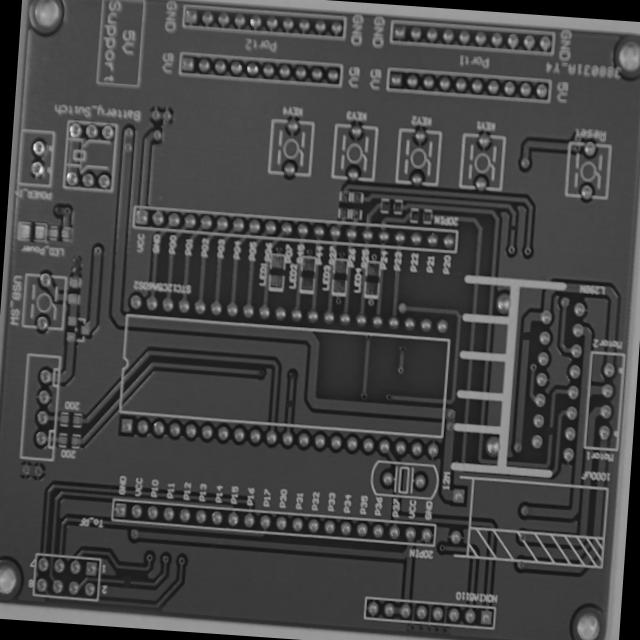open_circuit: (521, 328, 533, 344), (120, 575, 132, 588), (546, 422, 554, 438), (286, 396, 294, 411), (509, 222, 516, 233)
